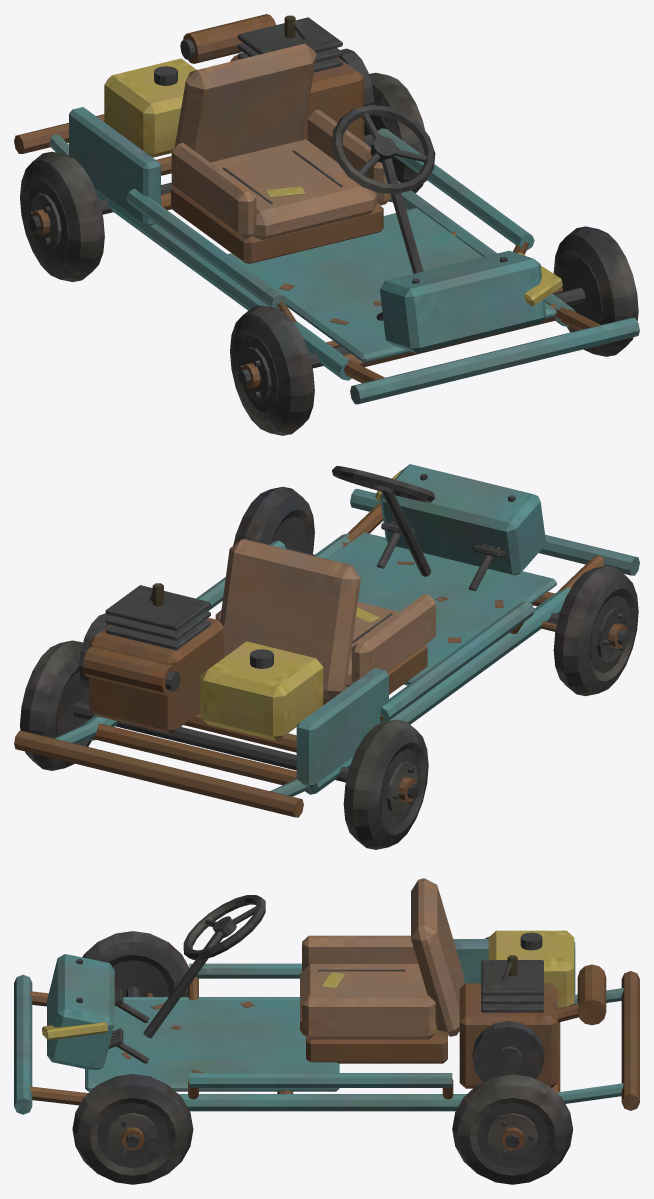
File: V07_go_kart.glb
3 renders of one model, top to bottom at view 1: azimuth 30°, elevation 25°; view 2: azimuth 150°, elevation 25°; view 3: azimuth 270°, elevation 25°, orthographic. The views are drawn at different scales.
Visible parts, largest first — view 1: Abandoned toy factory go-kart; view 2: Abandoned toy factory go-kart; view 3: Abandoned toy factory go-kart.
Boxes of the visible parts, box(x1,y1,x2,y2) form: Abandoned toy factory go-kart: box(14, 14, 639, 435); Abandoned toy factory go-kart: box(14, 464, 639, 849); Abandoned toy factory go-kart: box(14, 878, 639, 1184).
Bounding box in the file's own units: 0.96 × 0.5567 × 1.5.
Materials: 8 (8 with a texture image).
